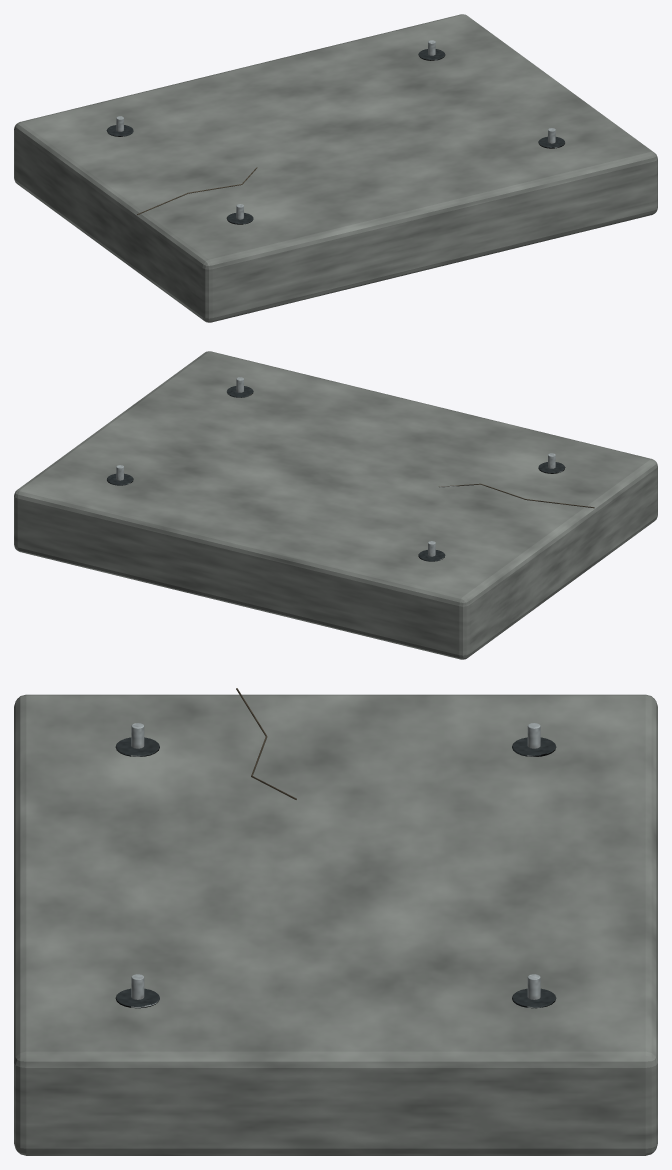
The model's file is GR_ConcretePad_01.glb.
3 renders of one model, top to bottom at view 1: azimuth 30°, elevation 25°; view 2: azimuth 150°, elevation 25°; view 3: azimuth 270°, elevation 25°, orthographic. The views are drawn at different scales.
Parts seen in each view (by area): view 1: Static; view 2: Static; view 3: Static.
Boxes of the visible parts, bbox=[...] form: Static: bbox=[14, 14, 657, 322]; Static: bbox=[14, 351, 657, 659]; Static: bbox=[14, 688, 657, 1155].
Bounding box in the file's own units: 1.76 × 0.28 × 1.3.
Materials: 1 (1 with a texture image).
